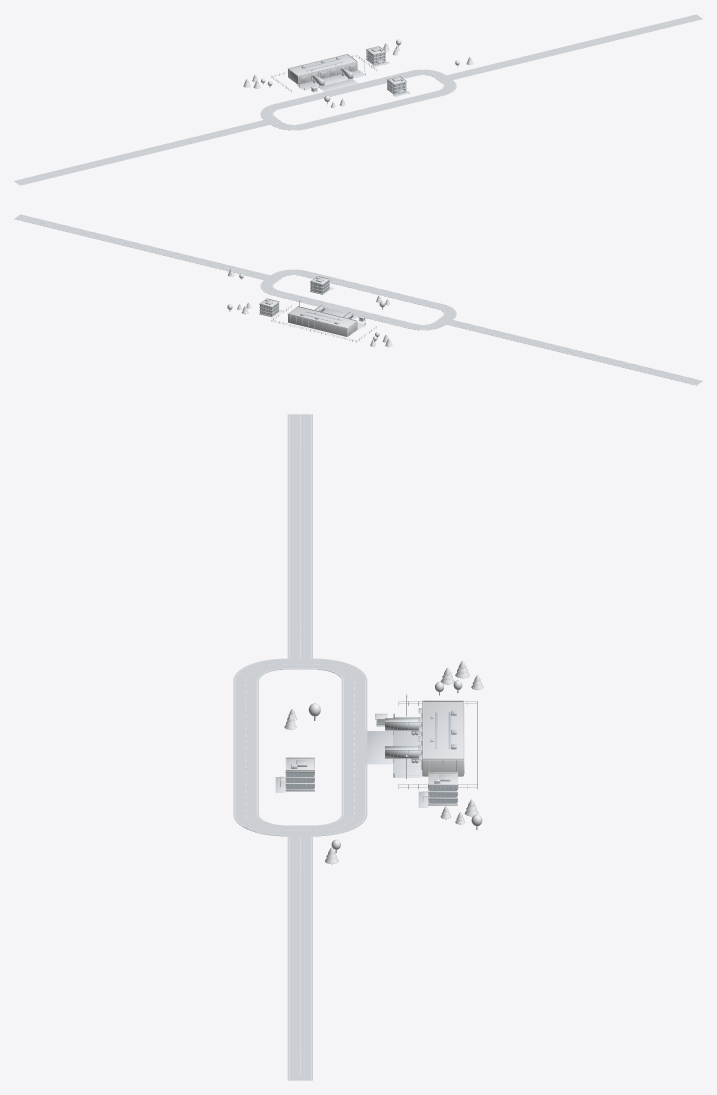
Rendered from set.glb.
The picture shows the model from 3 angles, top to bottom: view 1: azimuth 30°, elevation 25°; view 2: azimuth 150°, elevation 25°; view 3: azimuth 270°, elevation 25°; orthographic projection. The views are drawn at different scales.
Parts seen in each view (by area): view 1: Set; view 2: Set; view 3: Set.
Part boxes in pixels (<box>): Set: <box>14,14,702,185</box>; Set: <box>14,214,702,385</box>; Set: <box>233,414,483,1080</box>.
Size of the model in its own units: 160 by 2.62 by 25.41.
